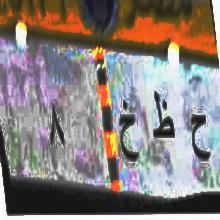7aa: (181, 97, 213, 177)
8: (41, 97, 70, 154)
Thaa: (147, 89, 176, 152)
khaa: (114, 92, 140, 175)
